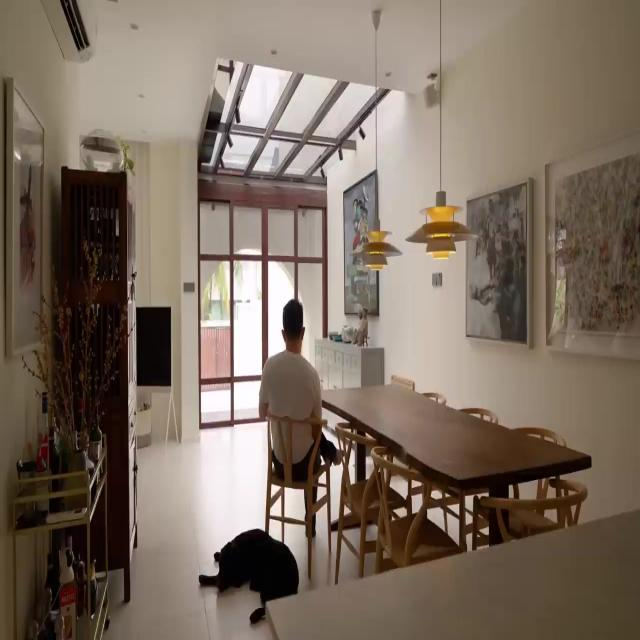obstacle: (265, 507, 639, 638), (321, 381, 591, 552), (60, 165, 138, 603), (11, 432, 110, 639)
person: (258, 299, 344, 537)
